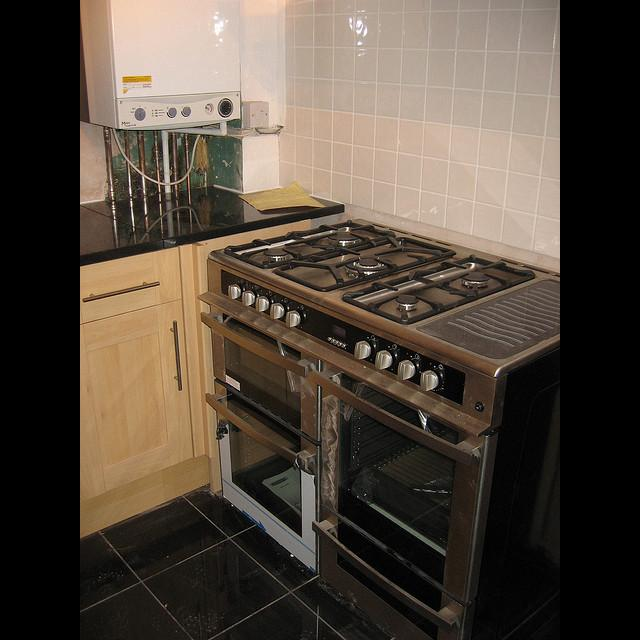Oven: (212, 215, 560, 629)
